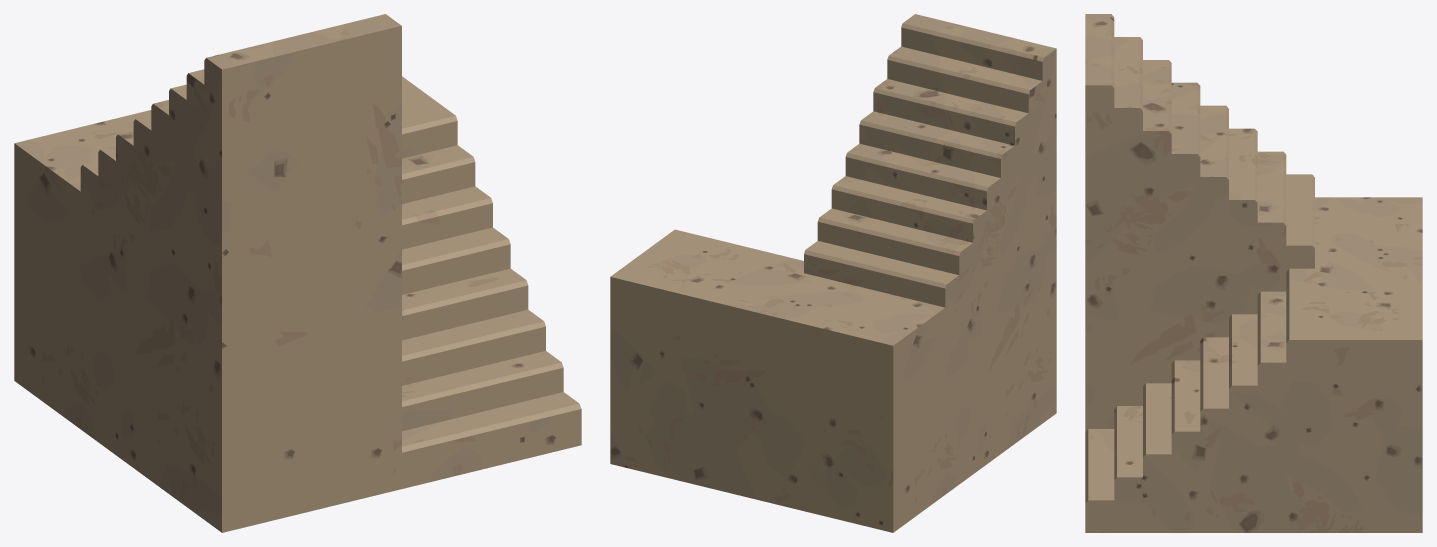
The model's file is SM_Bld_Stairs_Corner_01.fbx.
3 views of the same model, side by side, from view 1: azimuth 30°, elevation 25°; view 2: azimuth 150°, elevation 25°; view 3: azimuth 270°, elevation 25° (orthographic). The views are drawn at different scales.
Visible parts, largest first — view 1: SM_Bld_Stairs_Corner_01; view 2: SM_Bld_Stairs_Corner_01; view 3: SM_Bld_Stairs_Corner_01.
Boxes of the visible parts, x1,y1,x2,y2 form: SM_Bld_Stairs_Corner_01: (14, 14, 581, 532); SM_Bld_Stairs_Corner_01: (610, 14, 1056, 532); SM_Bld_Stairs_Corner_01: (1085, 14, 1422, 532).
Size of the model in its own units: 250 by 308 by 250.
